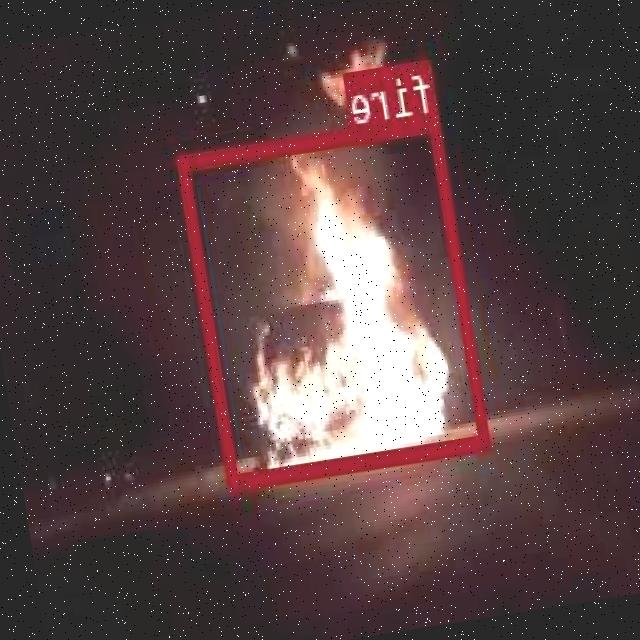fire: (178, 113, 492, 486)
